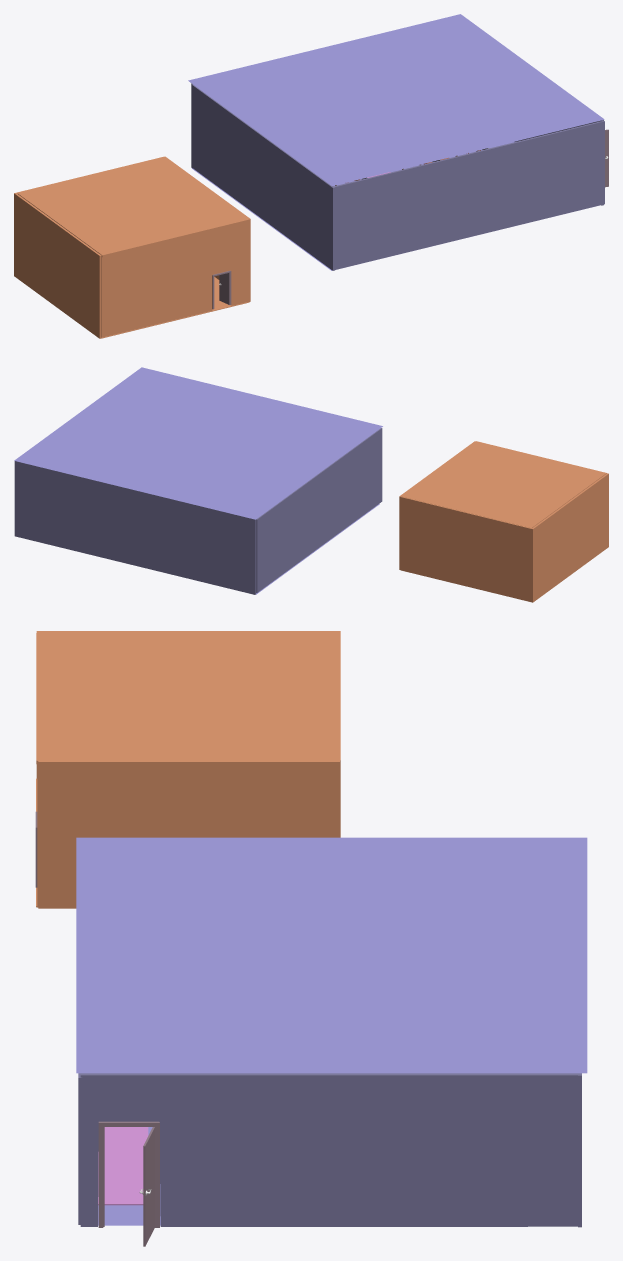
Rendered from room2.glb.
3 views of the same model, one above another, from view 1: azimuth 30°, elevation 25°; view 2: azimuth 150°, elevation 25°; view 3: azimuth 270°, elevation 25° (orthographic). The views are drawn at different scales.
Visible parts, largest first — view 1: Plane.001, Wall2.002, Roof, Wall, Wall2.003, Wall1, Wall2.004, Floor; view 2: Plane.001, Wall2.001, Wall2, Roof, Wall2.003, Wall1, Wall2.004; view 3: Plane.001, Wall4.001, Roof, Wall4, Wall2.005, Cube.432, DoorFrame.001, Door.001, Plane.
Part boxes in pixels (x1,y1,x2,y2): Plane.001: (188, 14, 604, 185); Wall2.002: (333, 121, 604, 269); Roof: (17, 157, 249, 257); Wall: (100, 221, 249, 337); Wall2.003: (204, 93, 335, 270); Wall1: (14, 193, 101, 338); Wall2.004: (192, 84, 231, 192); Floor: (102, 277, 249, 338); Plane.001: (14, 367, 382, 519); Wall2.001: (14, 461, 256, 594); Wall2: (400, 496, 531, 601); Roof: (401, 441, 606, 528); Wall2.003: (268, 428, 382, 584); Wall1: (531, 473, 608, 602); Wall2.004: (256, 495, 291, 592); Plane.001: (76, 837, 587, 1073); Wall4.001: (80, 1073, 527, 1226); Roof: (36, 633, 337, 764); Wall4: (38, 760, 339, 908); Wall2.005: (528, 1073, 579, 1226); Cube.432: (98, 1127, 148, 1205); DoorFrame.001: (98, 1121, 159, 1227); Door.001: (143, 1127, 154, 1246); Plane: (98, 1127, 160, 1225).
Bounding box in the file's own units: 20.52 × 3.15 × 10.26.
